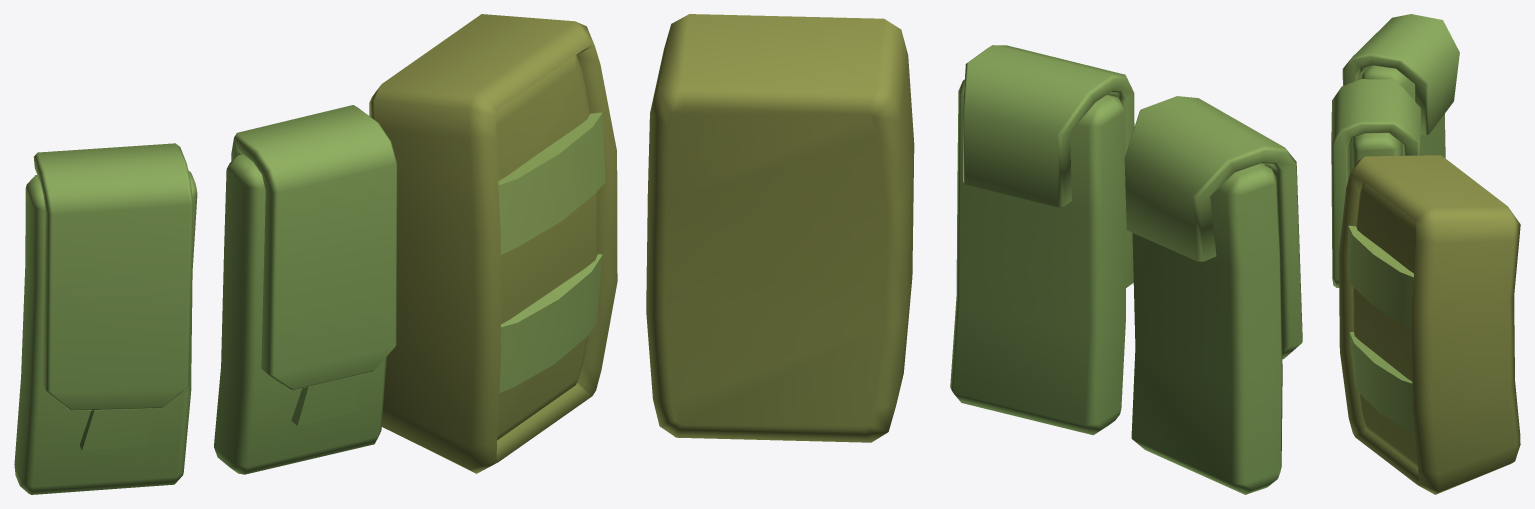
File: Costume_11_03.glb
The picture shows the model from 3 angles, left to right: view 1: azimuth 30°, elevation 25°; view 2: azimuth 150°, elevation 25°; view 3: azimuth 270°, elevation 25°; orthographic projection. The views are drawn at different scales.
Visible parts, largest first — view 1: Costume_11_03; view 2: Costume_11_03; view 3: Costume_11_03.
Part boxes in pixels (bbox=[...]): Costume_11_03: bbox=[14, 14, 617, 494]; Costume_11_03: bbox=[646, 14, 1302, 494]; Costume_11_03: bbox=[1331, 14, 1520, 494].
Bounding box in the file's own units: 0.2156 × 0.1327 × 0.0791.
Materials: 1 (1 with a texture image).
